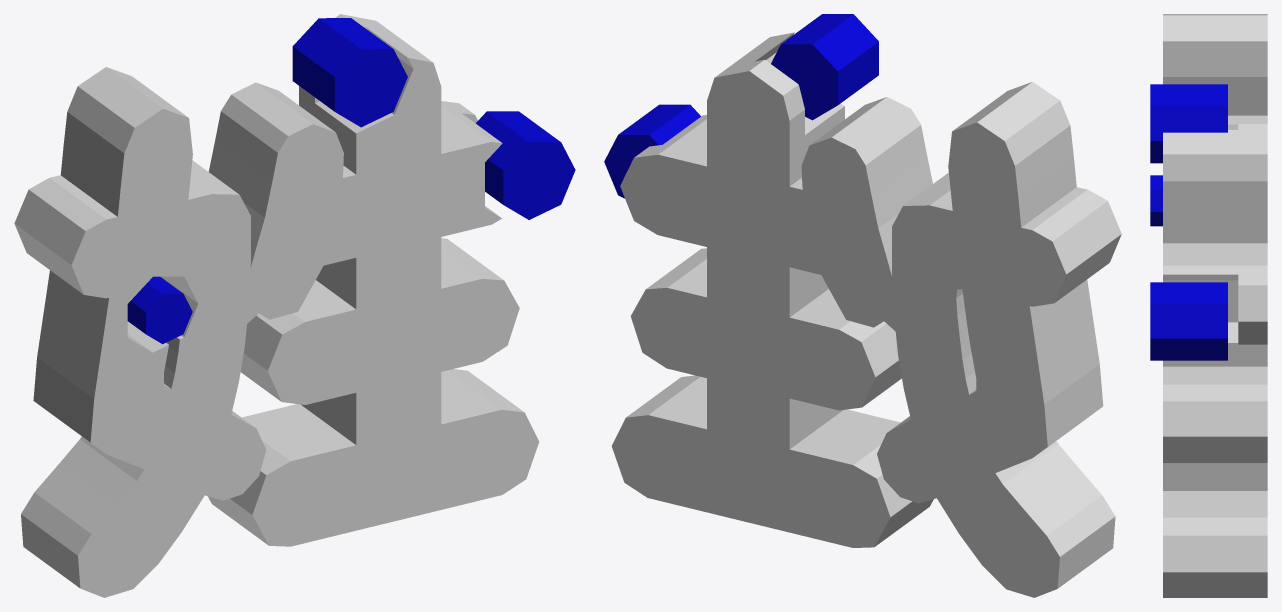
The model's file is Ch_Lite_China_姓_01.fbx.
The picture shows the model from 3 angles, left to right: view 1: azimuth 30°, elevation 25°; view 2: azimuth 150°, elevation 25°; view 3: azimuth 270°, elevation 25°; orthographic projection. The views are drawn at different scales.
Parts seen in each view (by area): view 1: sphere1; view 2: sphere1; view 3: sphere1.
Part boxes in pixels (left/top/right/bottom): sphere1: left=14, top=14, right=575, bottom=597; sphere1: left=604, top=14, right=1121, bottom=597; sphere1: left=1150, top=14, right=1267, bottom=597.
Bounding box in the file's own units: 1.01 × 0.9521 × 0.2242.
